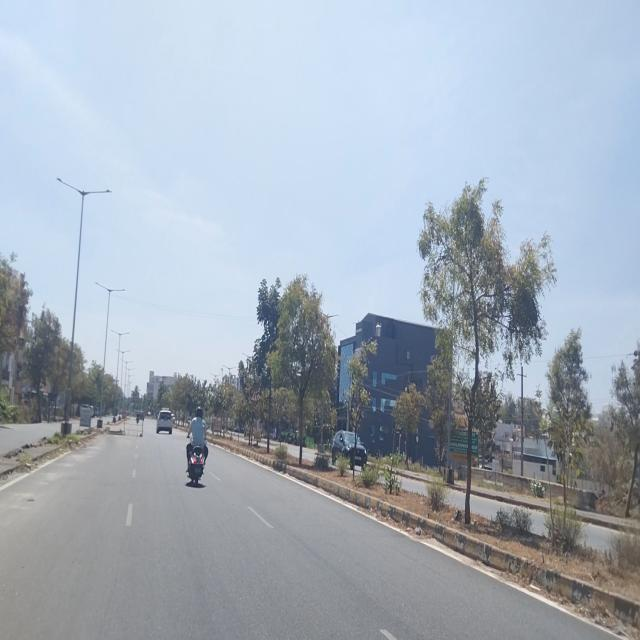bien_cam: (250, 388, 258, 402)
